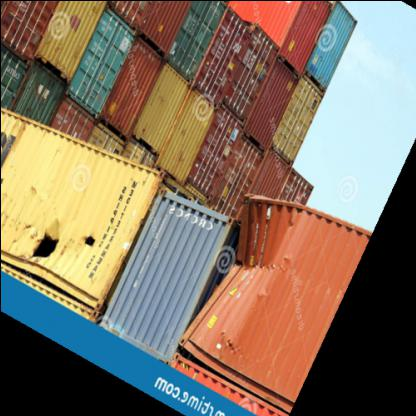Damage: (214, 209, 262, 283), (21, 228, 66, 260), (78, 219, 102, 256)
